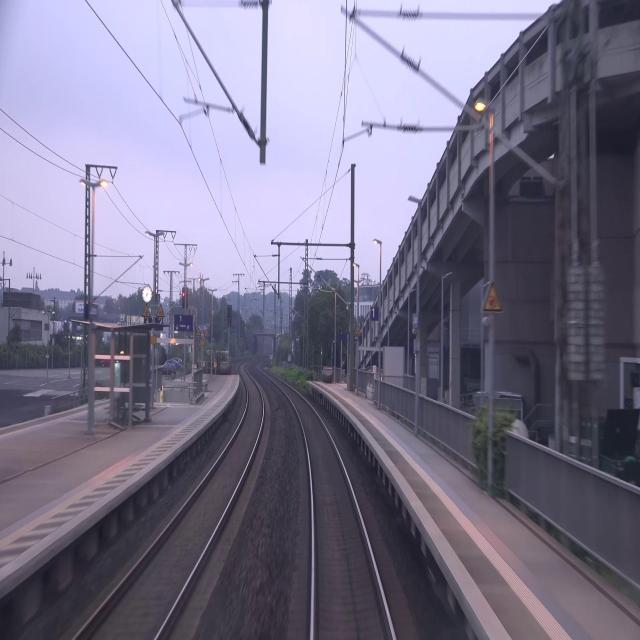rail-track: (79, 366, 261, 639), (281, 384, 391, 639)
